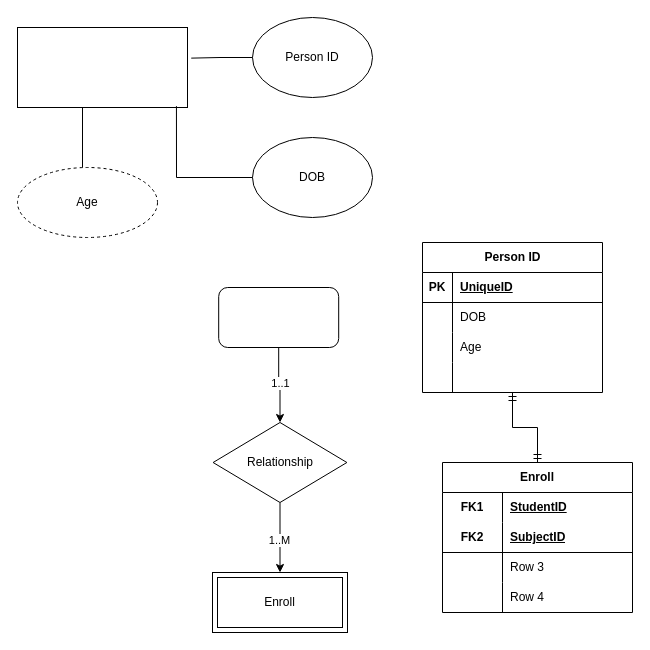
Image size: 650x650. Some labels were removed from this diagram. The centre of each missing label's shape, as x and y in pixels:
"Entity" belongs at (x=278, y=317).
"Person" belongs at (x=102, y=67).
